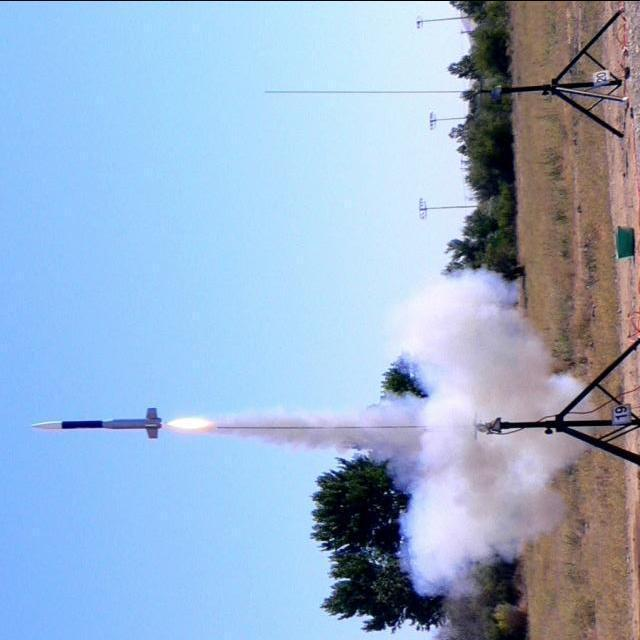missile: (32, 410, 162, 438)
